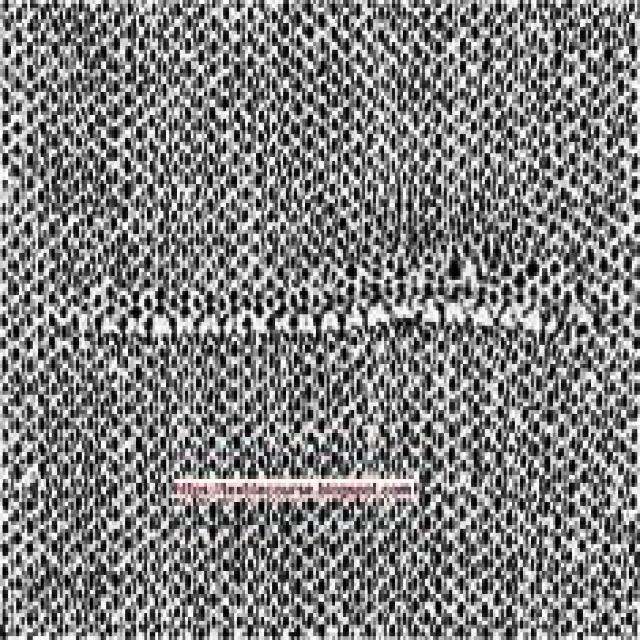Hole: (74, 225, 586, 354)
